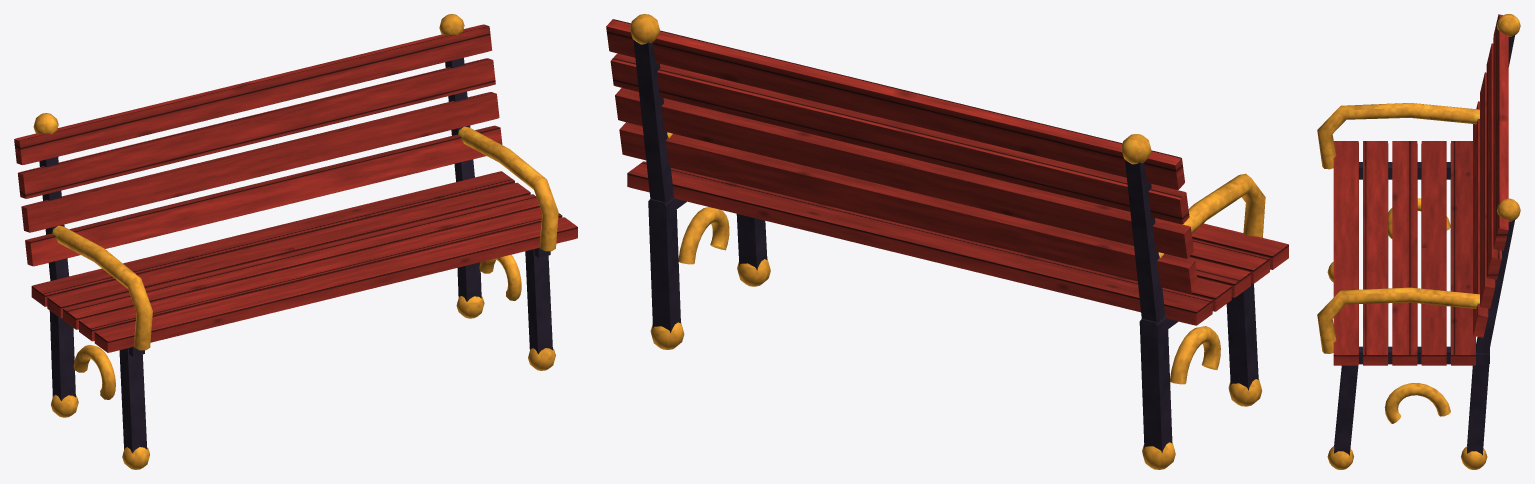
Rendered from CHO_Bench.fbx.
3 renders of one model, left to right at view 1: azimuth 30°, elevation 25°; view 2: azimuth 150°, elevation 25°; view 3: azimuth 270°, elevation 25°, orthographic. The views are drawn at different scales.
Visible parts, largest first — view 1: CHO_Bench; view 2: CHO_Bench; view 3: CHO_Bench.
Part boxes in pixels (box(x1,y1,x2,y2)): CHO_Bench: box(14, 14, 577, 469); CHO_Bench: box(606, 14, 1288, 469); CHO_Bench: box(1317, 14, 1520, 469).
Bounding box in the file's own units: 1.9 × 1.11 × 0.7638.
